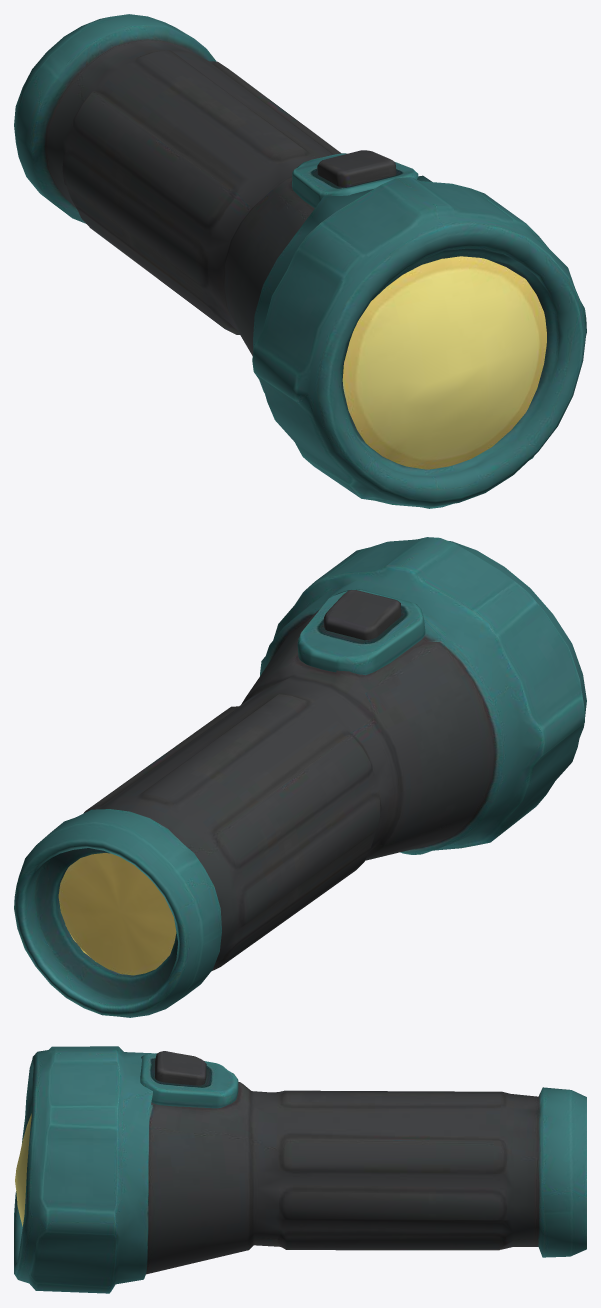
Rendered from flashlight.glb.
3 views of the same model, one above another, from view 1: azimuth 30°, elevation 25°; view 2: azimuth 150°, elevation 25°; view 3: azimuth 270°, elevation 25° (orthographic). The views are drawn at different scales.
Parts seen in each view (by area): view 1: flashlight; view 2: flashlight; view 3: flashlight.
Boxes of the visible parts, x1,y1,x2,y2 form: flashlight: (14,14,586,508); flashlight: (14,537,586,1017); flashlight: (14,1046,586,1293).
Size of the model in its own units: 0.1152 by 0.112 by 0.25.
1 material, 1 textured.
